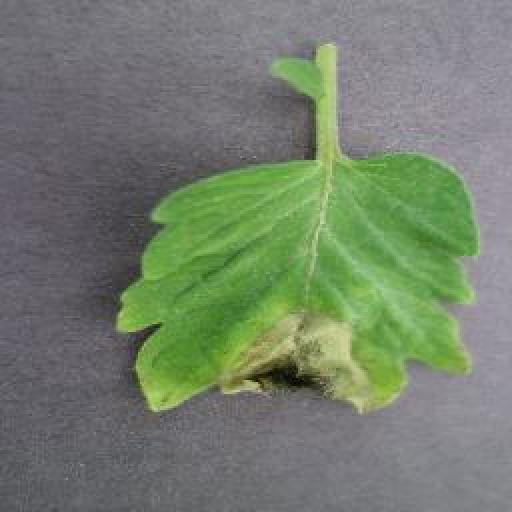disease_tomato: (108, 151, 483, 420)
